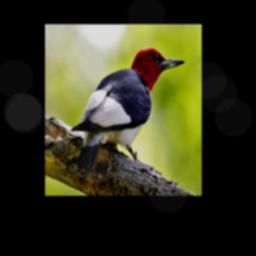Woodpecker: (72, 49, 184, 181)
